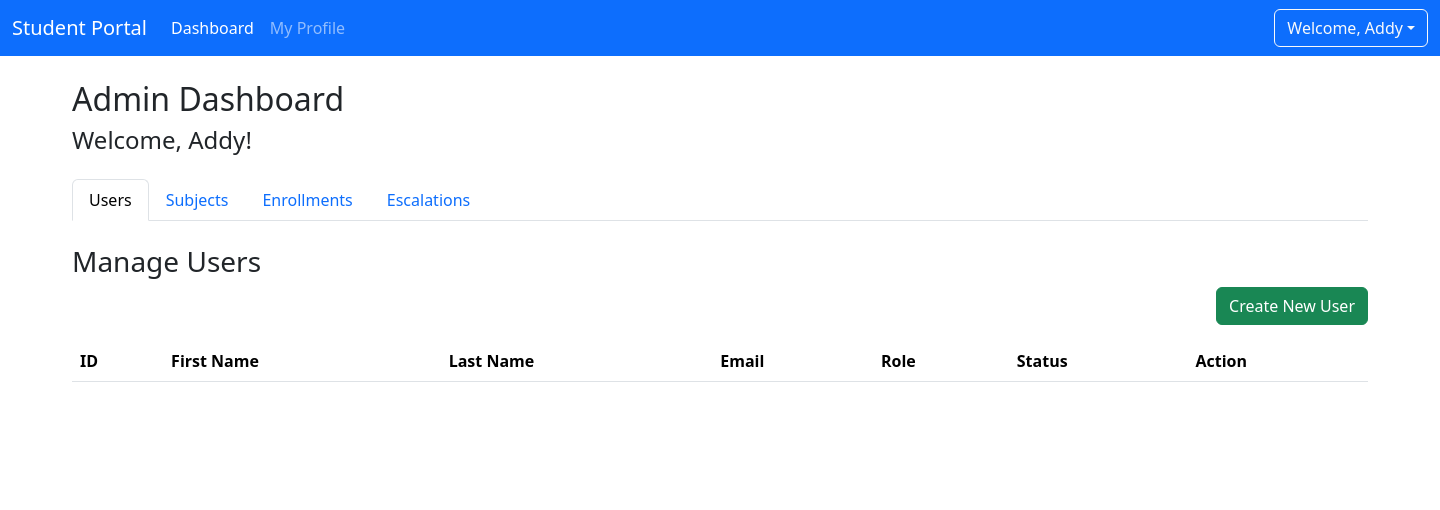
Test: AdminDashboardPage — server-side pagination (26.7) › Enrollments tab › renders enrollment rows and pagination from paged API
Expected: the heading "Manage Users" is shown, 72,242 -> 261,280
Click the button "Enrollments" at (308, 200), box 246,179 -> 370,221
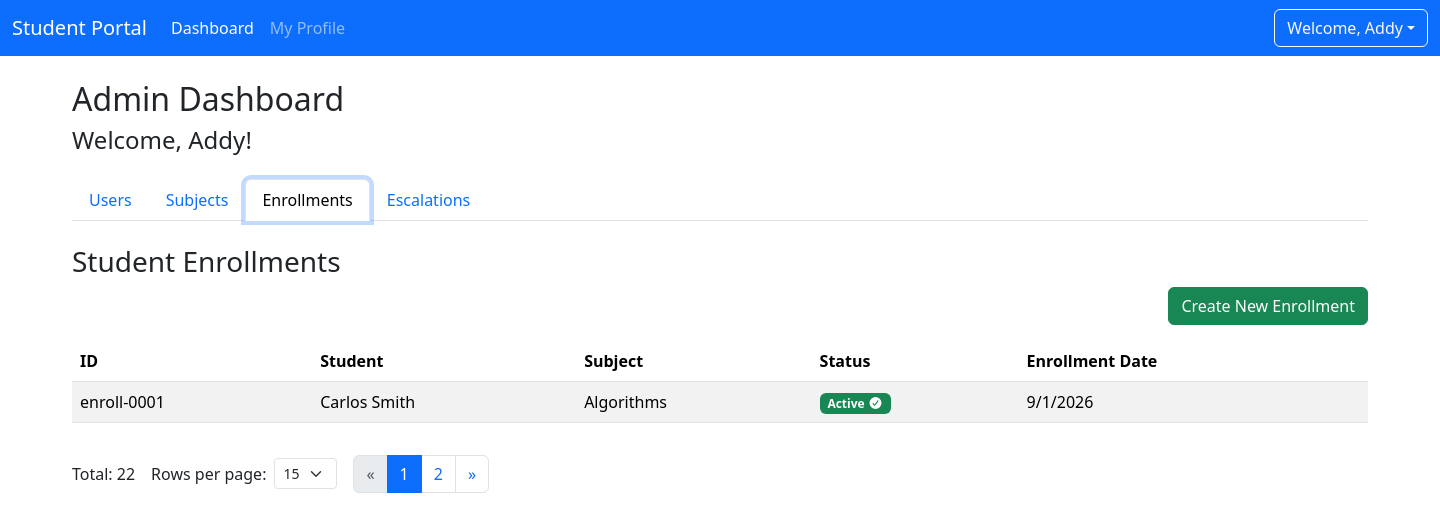
Now the text "Carlos Smith" is shown, box 312,381 -> 576,422
Now the text "Total: 22" is shown, box 72,462 -> 135,486
